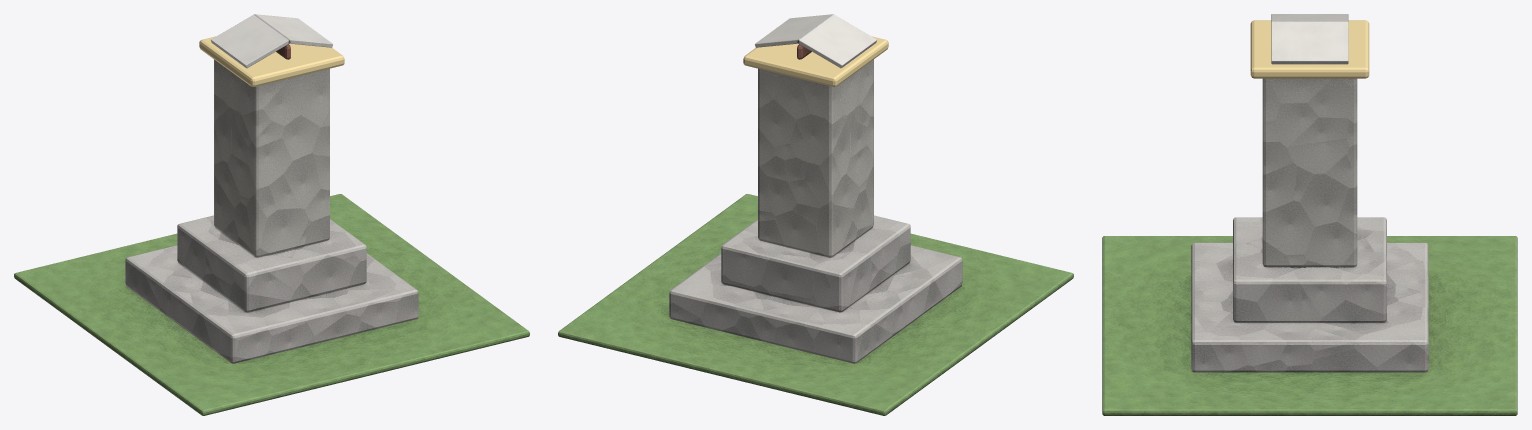
File: buch_geschichte.glb
3 renders of one model, left to right at view 1: azimuth 30°, elevation 25°; view 2: azimuth 150°, elevation 25°; view 3: azimuth 270°, elevation 25°, orthographic. The views are drawn at different scales.
Parts seen in each view (by area): view 1: buch_geschichte, buch_geschichte_details; view 2: buch_geschichte, buch_geschichte_details; view 3: buch_geschichte, buch_geschichte_details.
Boxes of the visible parts, x1,y1,x2,y2 form: buch_geschichte: (14, 14, 529, 415); buch_geschichte_details: (199, 36, 344, 86); buch_geschichte: (558, 14, 1073, 415); buch_geschichte_details: (743, 36, 888, 86); buch_geschichte: (1102, 14, 1517, 415); buch_geschichte_details: (1250, 20, 1369, 78).
Bounding box in the file's own units: 0.7 × 0.5729 × 0.7.
2 materials, 1 textured.
